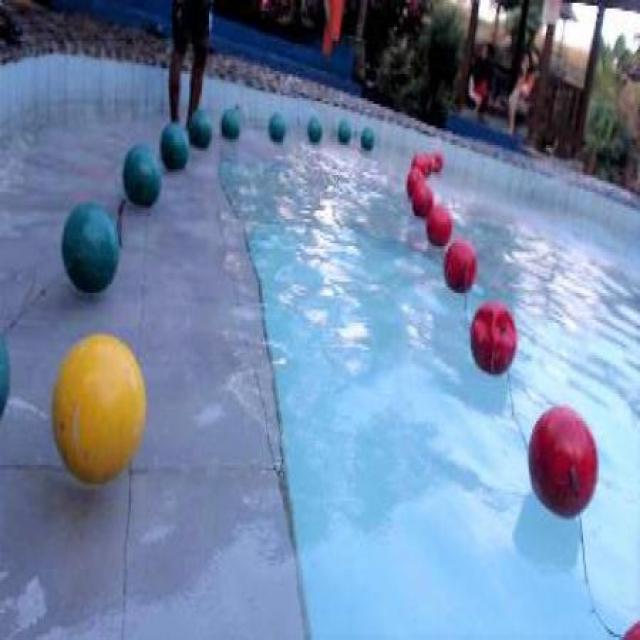buoy: (50, 334, 146, 482), (526, 406, 598, 518), (60, 199, 118, 293), (468, 298, 516, 375), (122, 142, 162, 208), (442, 236, 478, 294), (157, 120, 187, 170), (426, 201, 452, 247), (188, 106, 212, 150), (411, 182, 432, 218), (219, 105, 239, 141), (406, 163, 426, 198), (266, 111, 284, 141), (305, 114, 322, 138), (336, 120, 350, 144), (360, 125, 374, 148)
